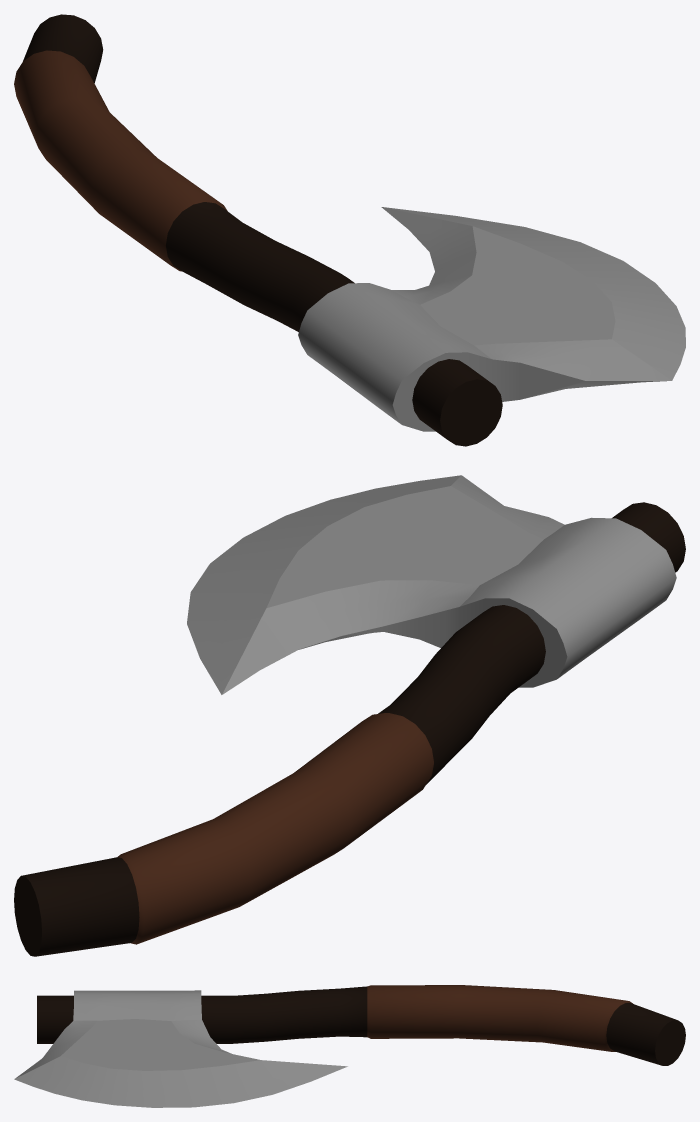
Rendered from Axe001.FBX.
3 renders of one model, top to bottom at view 1: azimuth 30°, elevation 25°; view 2: azimuth 150°, elevation 25°; view 3: azimuth 270°, elevation 25°, orthographic. The views are drawn at different scales.
Visible parts, largest first — view 1: AxeHead, Cylinder005; view 2: AxeHead, Cylinder005; view 3: Cylinder005, AxeHead.
Boxes of the visible parts, x1,y1,x2,y2 form: AxeHead: [298, 207, 685, 431]; Cylinder005: [14, 14, 502, 446]; AxeHead: [187, 475, 676, 694]; Cylinder005: [14, 502, 685, 956]; Cylinder005: [37, 985, 685, 1065]; AxeHead: [14, 990, 347, 1107].
Size of the model in its own units: 2.72 by 0.6168 by 7.2.
